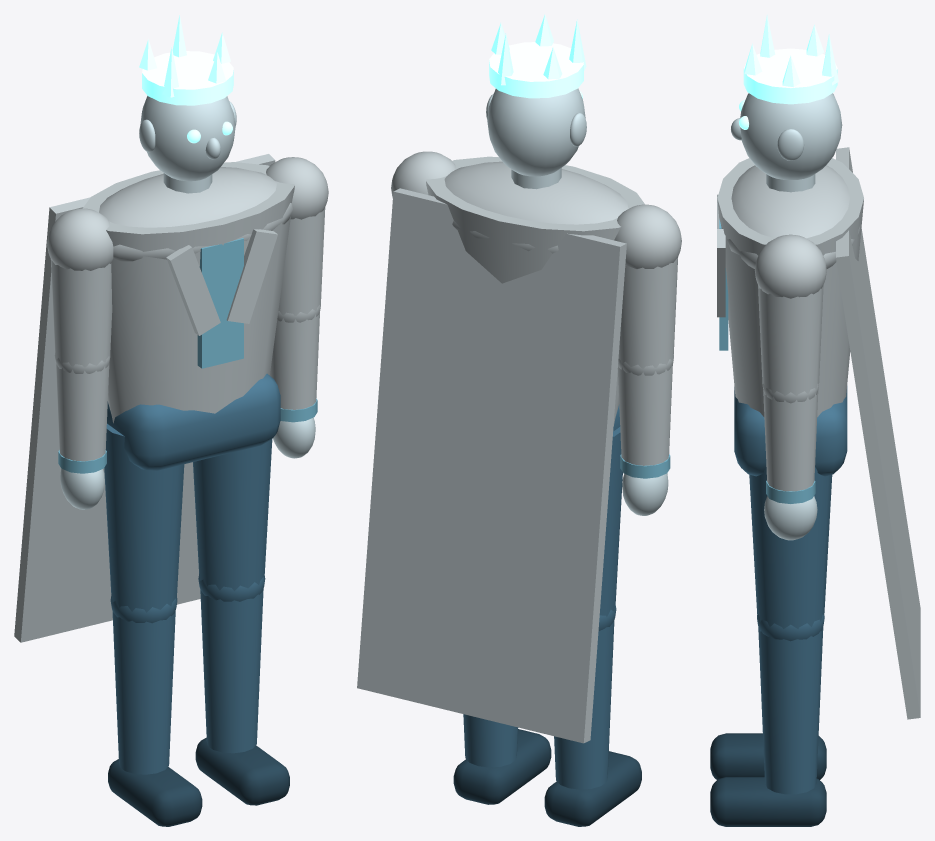
Rendered from conde_glaciar.glb.
3 renders of one model, left to right at view 1: azimuth 30°, elevation 25°; view 2: azimuth 150°, elevation 25°; view 3: azimuth 270°, elevation 25°, orthographic. The views are drawn at different scales.
Parts seen in each view (by area): view 1: body, leg_L, leg_R, arm_L, arm_R; view 2: body, arm_L, leg_L, leg_R, arm_R; view 3: body, leg_R, arm_R, leg_L.
Boxes of the visible parts, <box> form: body: <box>14,15,294,642</box>; leg_L: <box>104,423,202,826</box>; leg_R: <box>193,439,289,805</box>; arm_L: <box>47,208,113,509</box>; arm_R: <box>266,157,328,458</box>; body: <box>357,14,644,743</box>; arm_L: <box>614,204,681,515</box>; leg_L: <box>544,427,641,826</box>; leg_R: <box>453,714,551,804</box>; arm_R: <box>391,151,455,198</box>; body: <box>717,14,920,719</box>; leg_R: <box>710,467,832,826</box>; arm_R: <box>754,234,826,540</box>; leg_L: <box>710,733,826,779</box>.
Size of the model in its own units: 0.713 by 1.9 by 0.4704.
